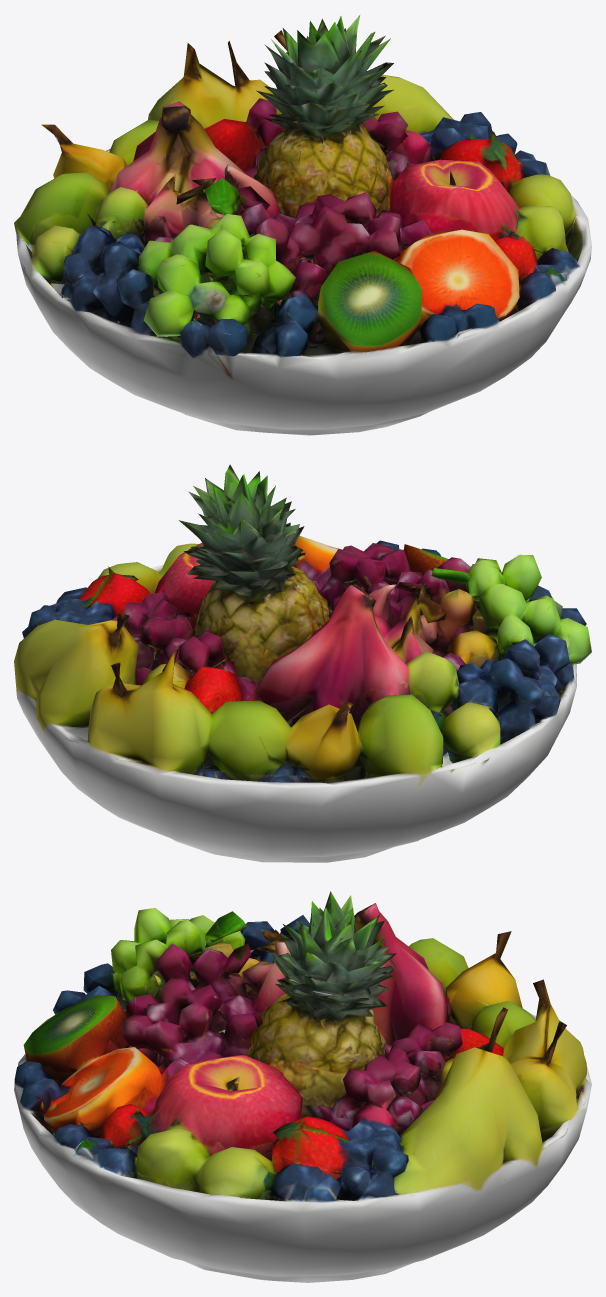
Rendered from meyvetabagi.fbx.
3 renders of one model, top to bottom at view 1: azimuth 30°, elevation 25°; view 2: azimuth 150°, elevation 25°; view 3: azimuth 270°, elevation 25°, orthographic. The views are drawn at different scales.
Parts seen in each view (by area): view 1: Mesh_0; view 2: Mesh_0; view 3: Mesh_0.
Part boxes in pixels (x1,y1,x2,y2): Mesh_0: (14, 15, 591, 435); Mesh_0: (14, 464, 591, 862); Mesh_0: (14, 891, 591, 1282).
Size of the model in its own units: 191 by 120 by 191.
1 material, 1 textured.
